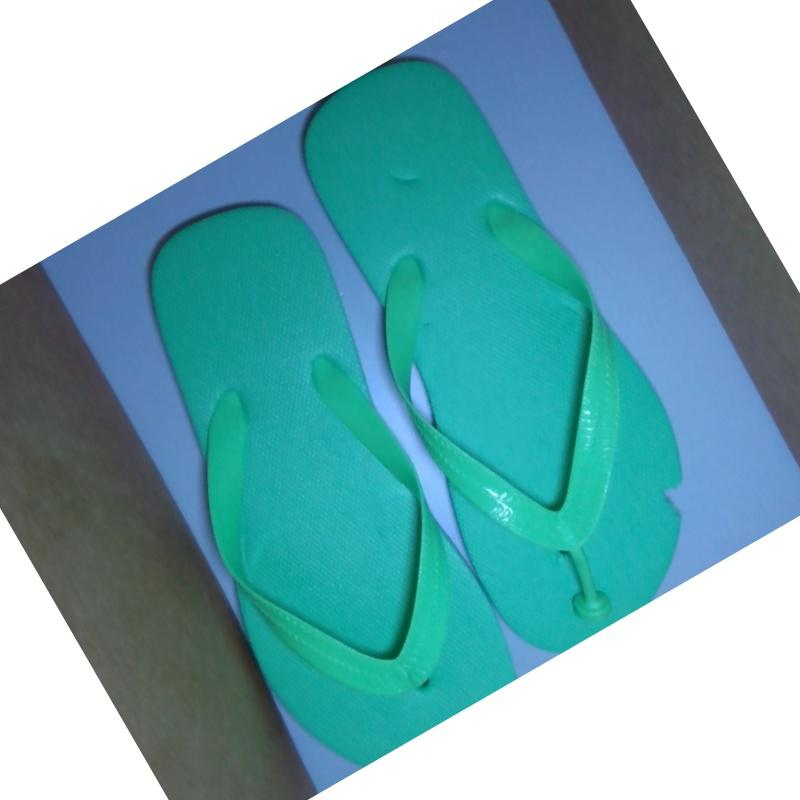chipped: (651, 472, 700, 531)
detached: (558, 578, 621, 628)
